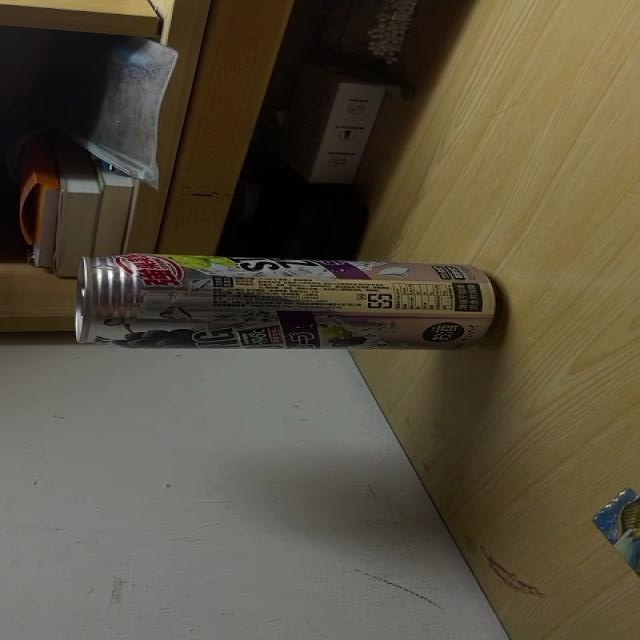Liquor: (69, 256, 504, 350)
